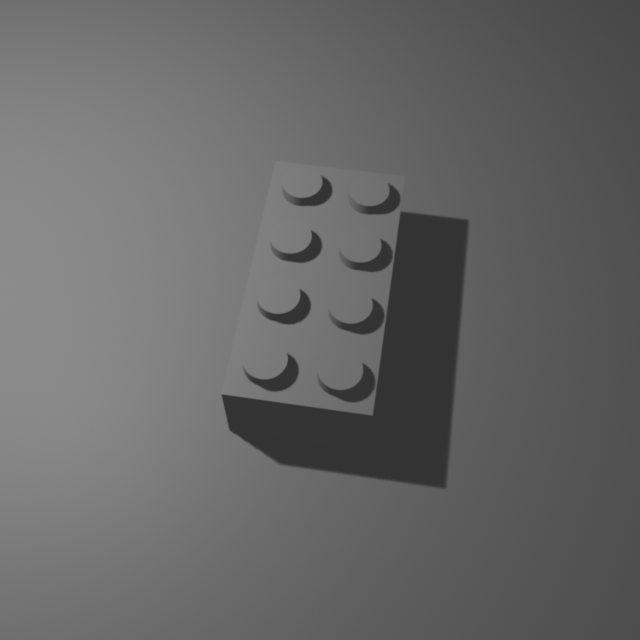lego_2x4: (220, 152, 406, 450)
